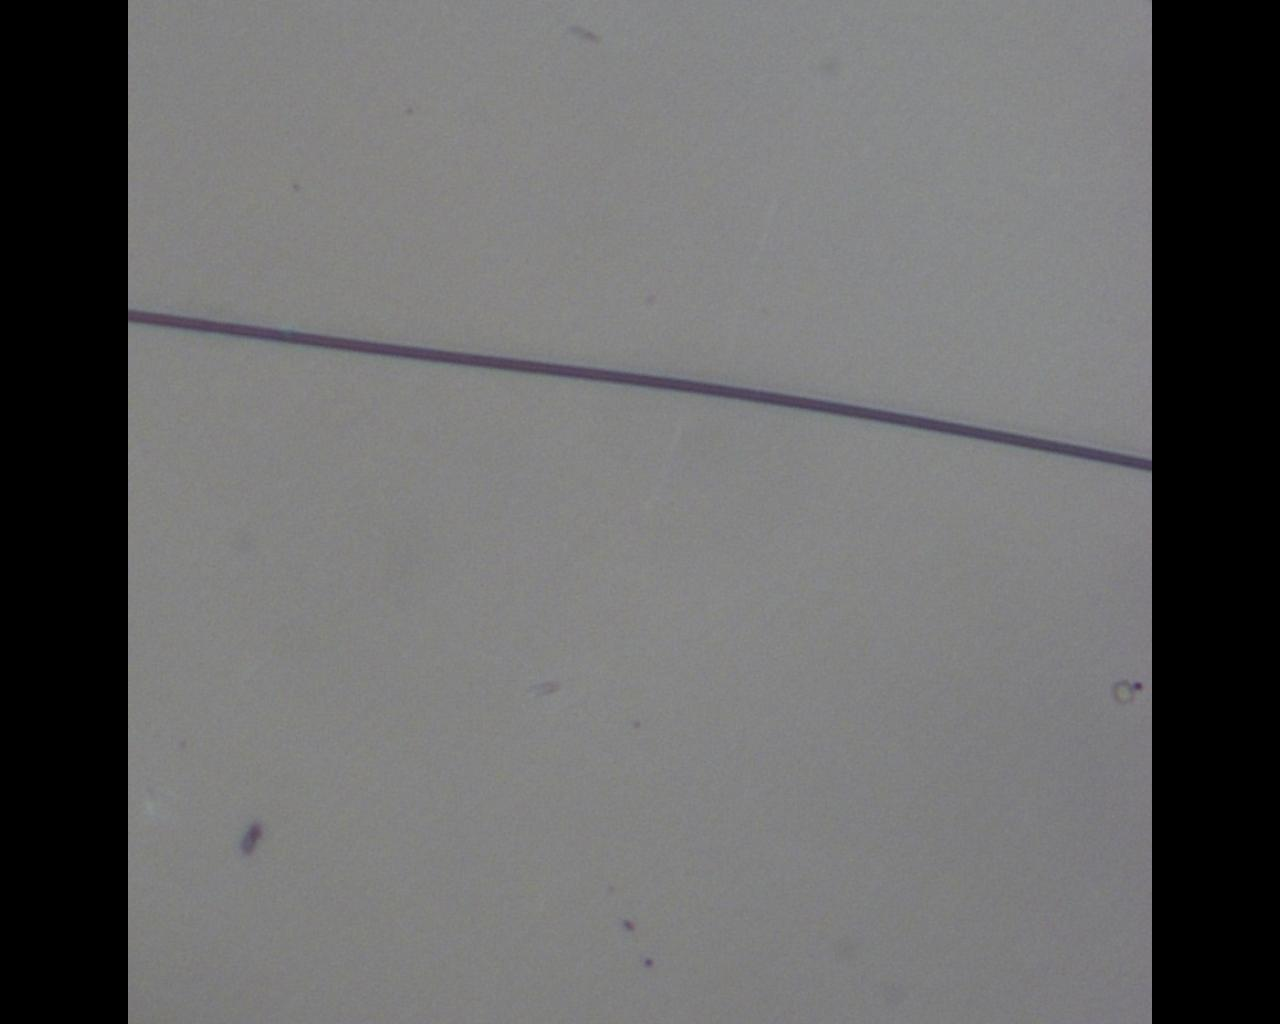fiber: (127, 306, 1151, 472)
